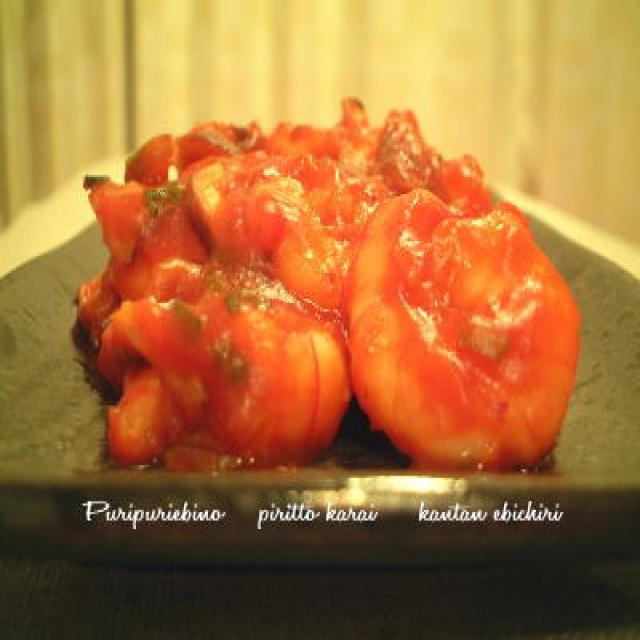熟制海鲜: (64, 84, 589, 486)
